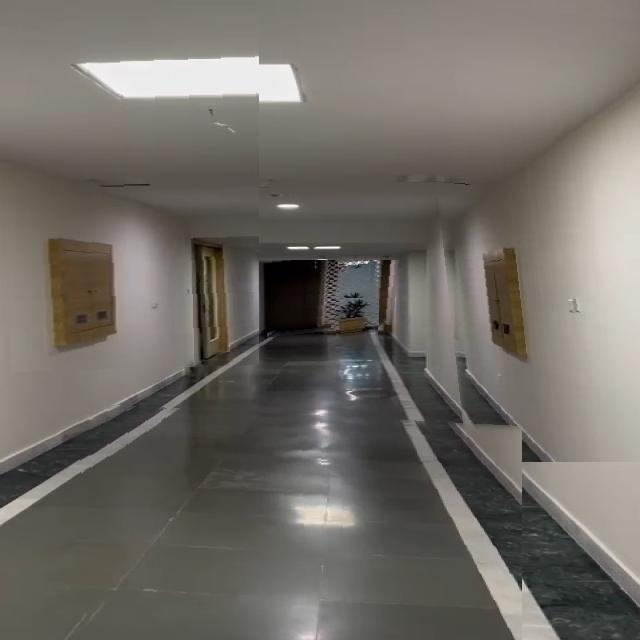door: (267, 260, 400, 338)
floor: (78, 403, 522, 640)
furniture: (331, 298, 379, 345)
wall: (416, 0, 640, 462), (0, 12, 259, 372)
